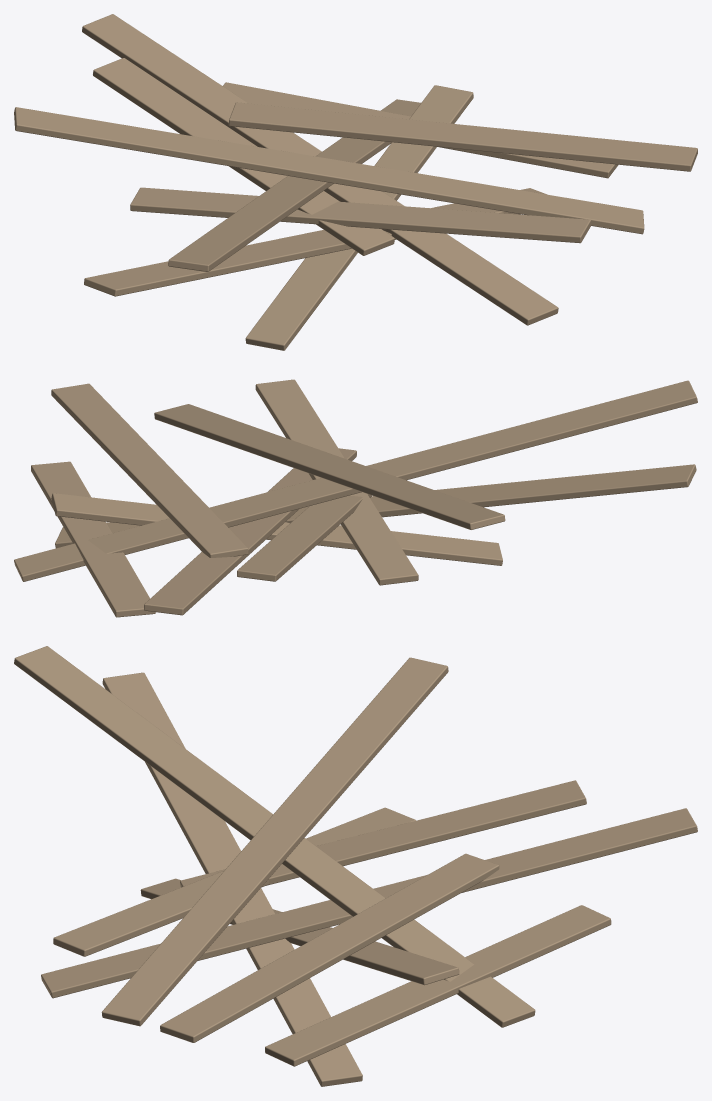
File: SM_Debris_Planks.fbx
3 renders of one model, top to bottom at view 1: azimuth 30°, elevation 25°; view 2: azimuth 150°, elevation 25°; view 3: azimuth 270°, elevation 25°, orthographic. The views are drawn at different scales.
Parts seen in each view (by area): view 1: SM_Debris_Planks; view 2: SM_Debris_Planks; view 3: SM_Debris_Planks.
Part boxes in pixels (x1,y1,x2,y2): SM_Debris_Planks: (14, 14, 697, 350); SM_Debris_Planks: (14, 379, 697, 617); SM_Debris_Planks: (14, 646, 697, 1086).
Bounding box in the file's own units: 2.41 × 0.623 × 2.17.
